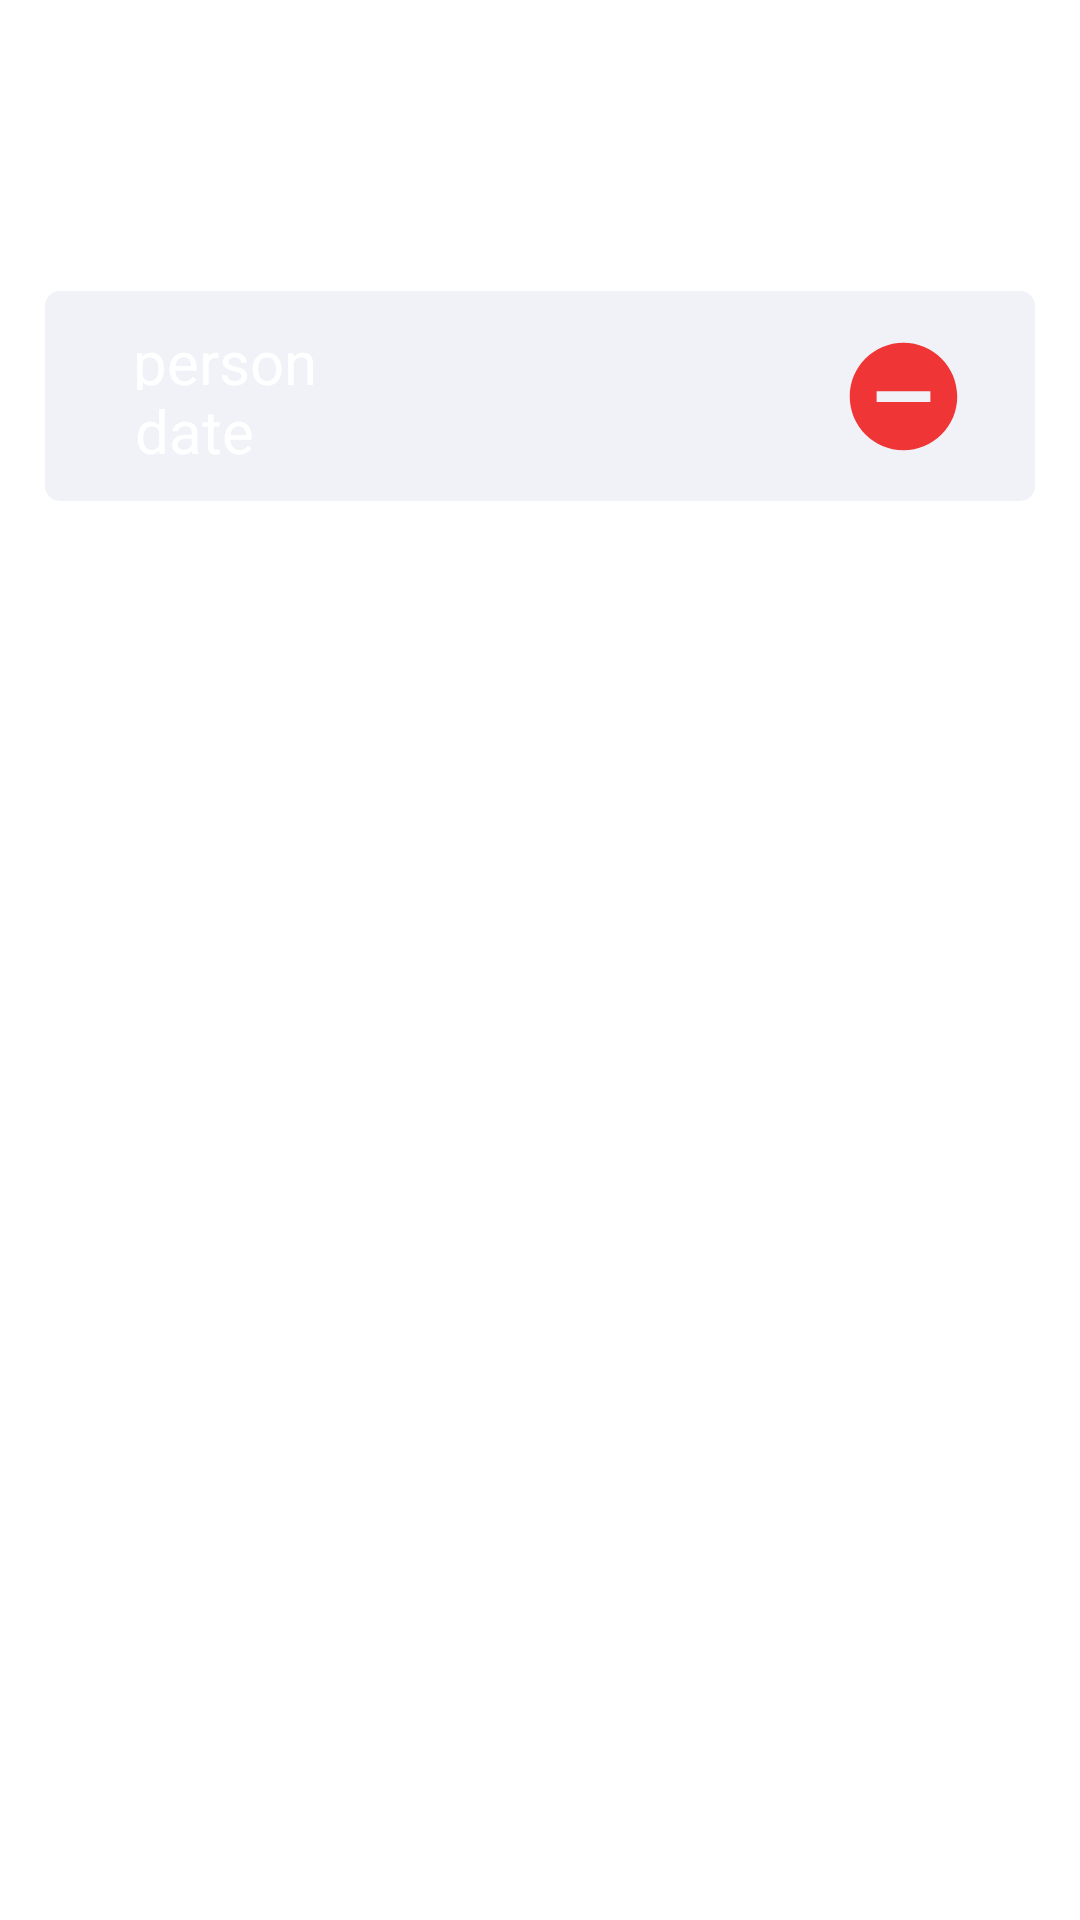

Named icons in this screenshot (1080px×1920px) and their centers, (x,y):
remove: (903,396)
